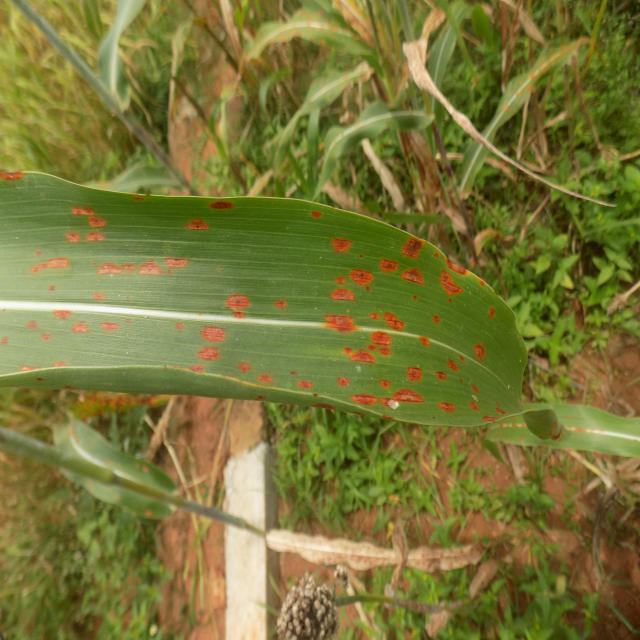millet_rust: (0, 161, 534, 447)
